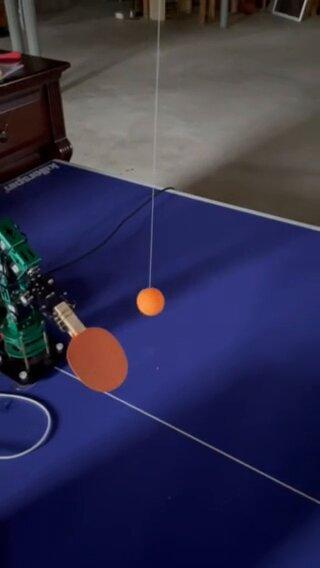oball: (135, 288, 166, 316)
